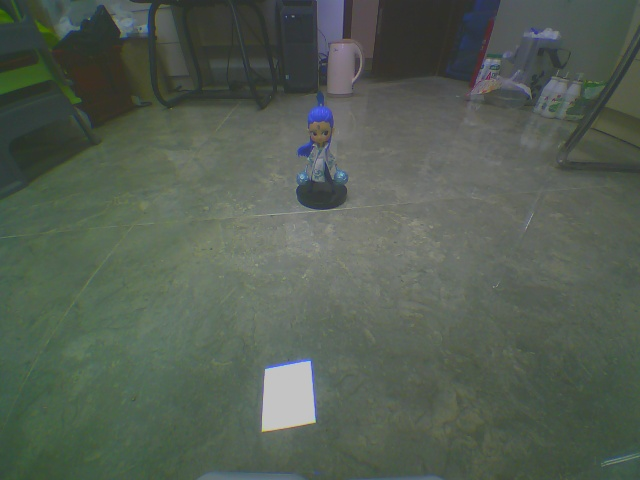Aobing: (285, 88, 368, 206)
